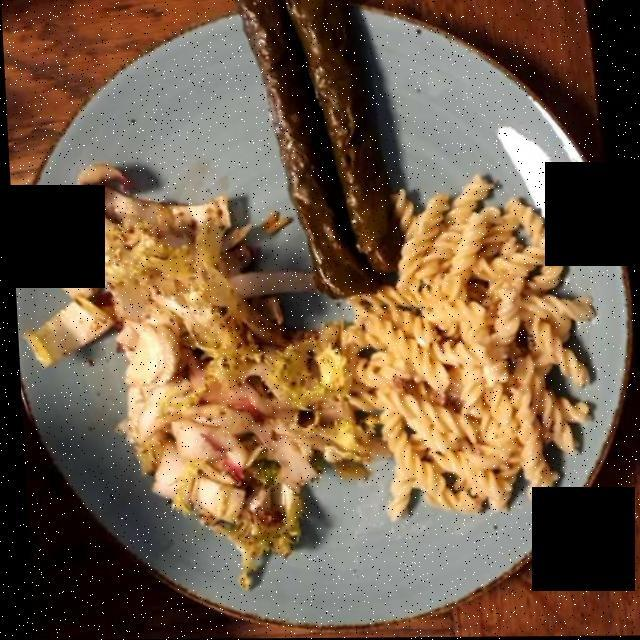pasta: (326, 184, 588, 528)
witloof-chicory: (45, 168, 358, 580)
